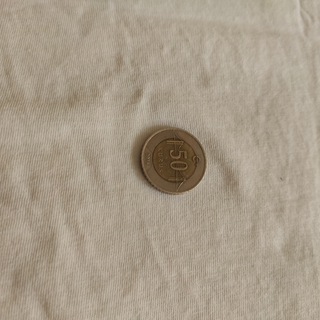50KURUS: (138, 125, 207, 196)
